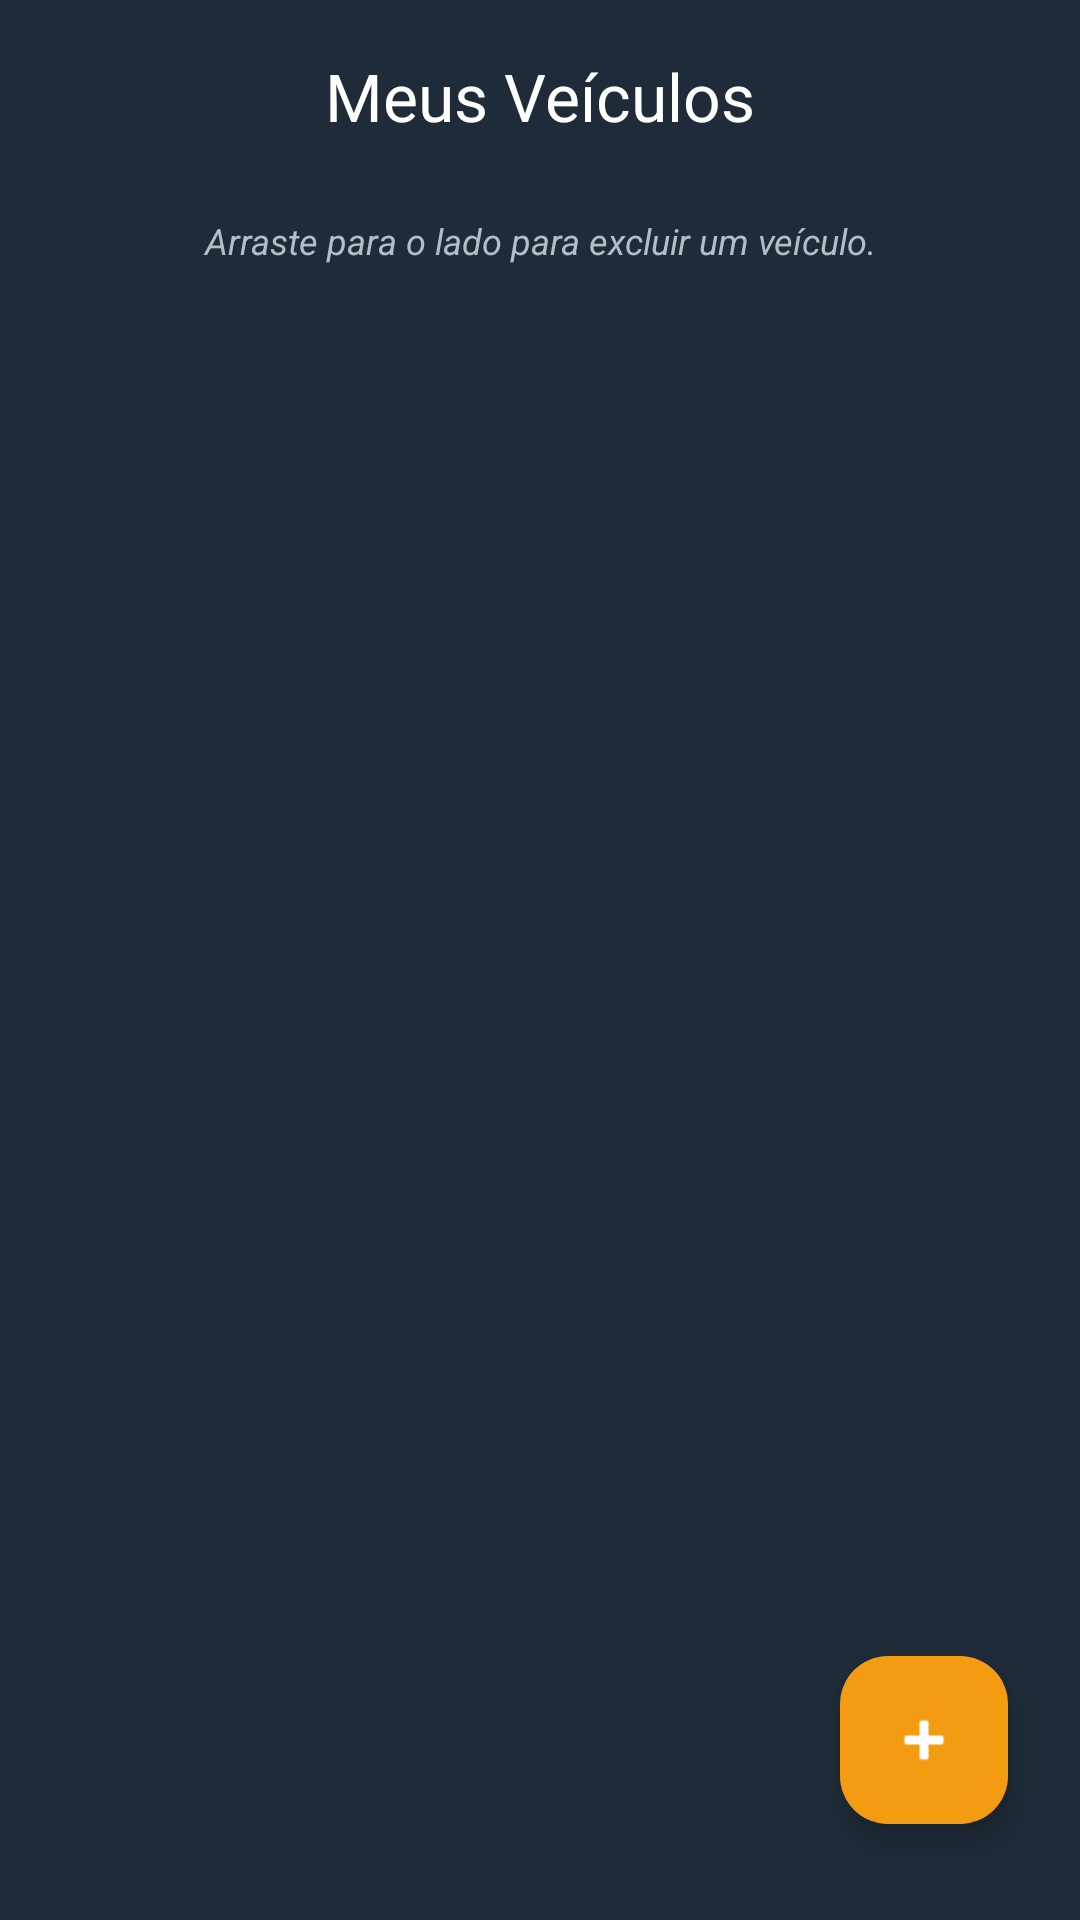

Locate icon controls on the screen. Image size 1080*1920, boxes as (x1, y1, x2, y2).
Adicionar Carro: (840, 1656, 1008, 1824)
